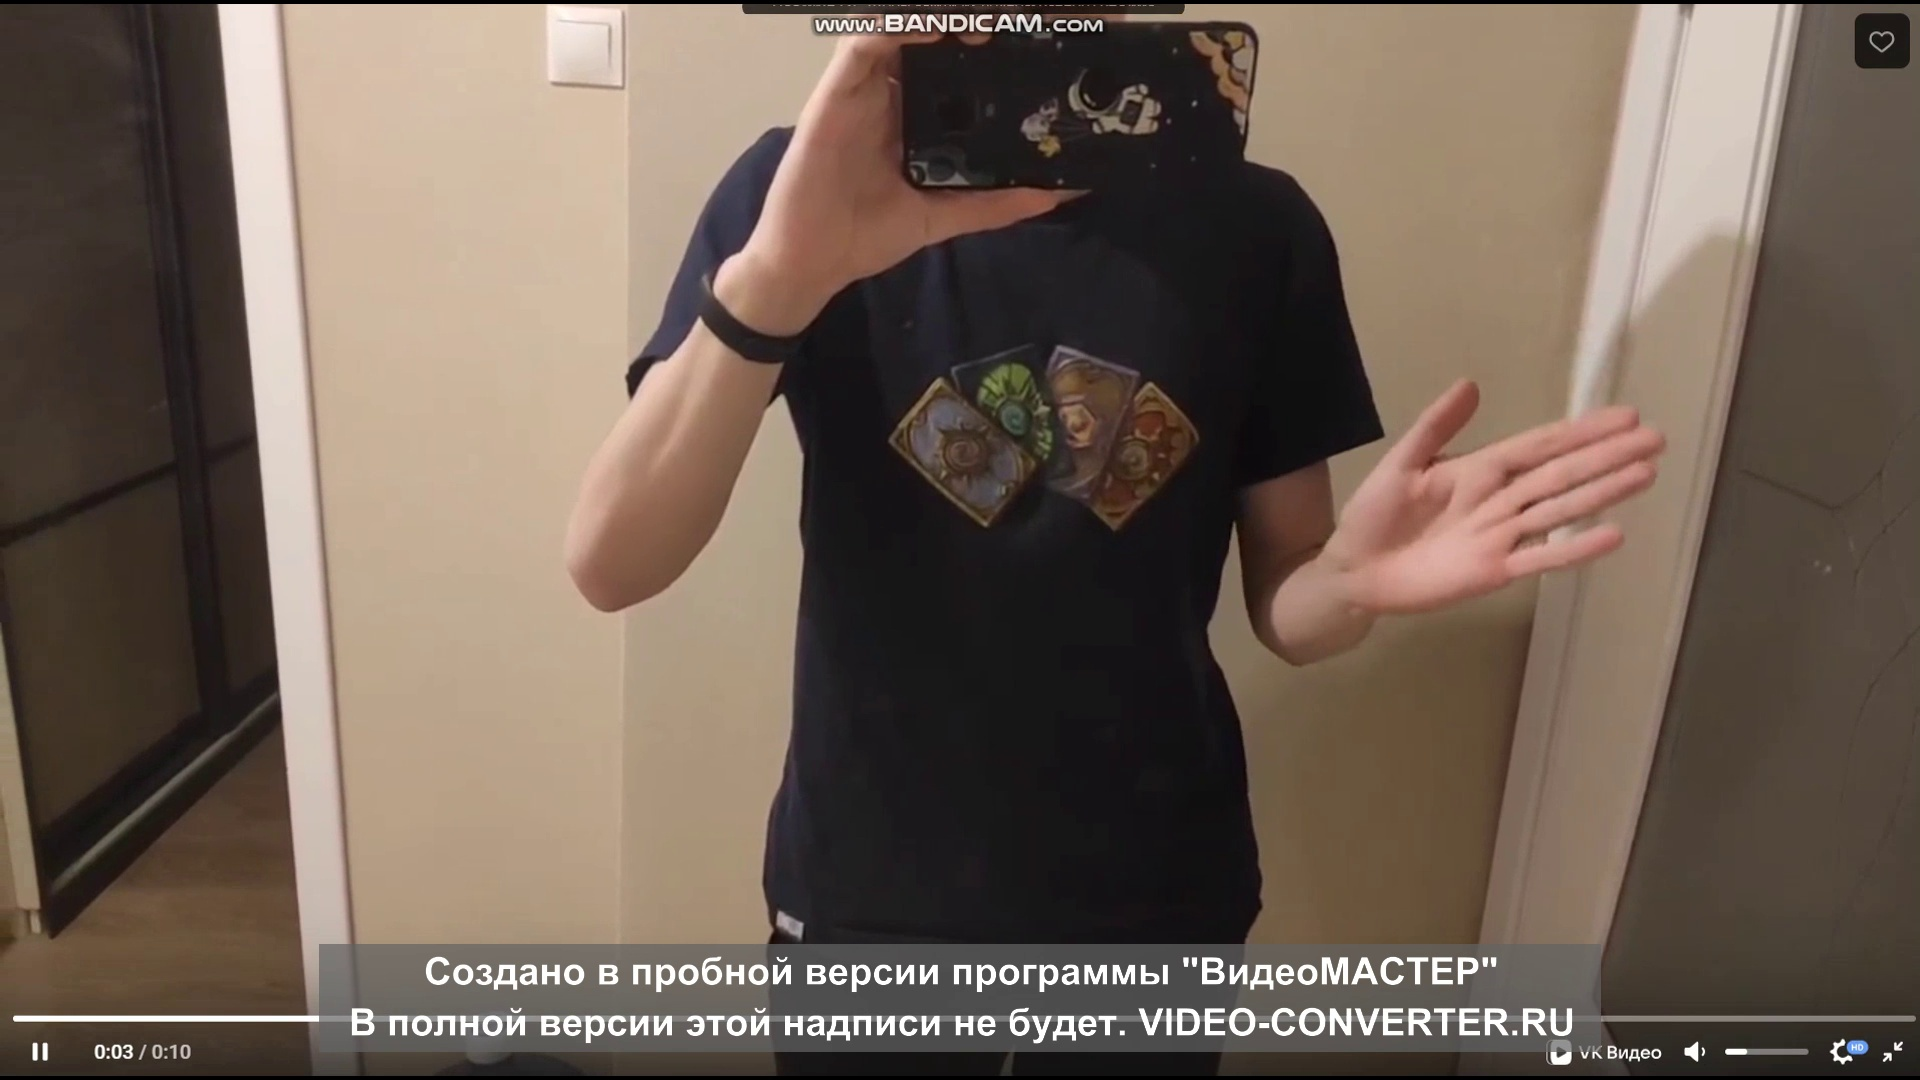Ладонь: (1342, 377, 1669, 618)
